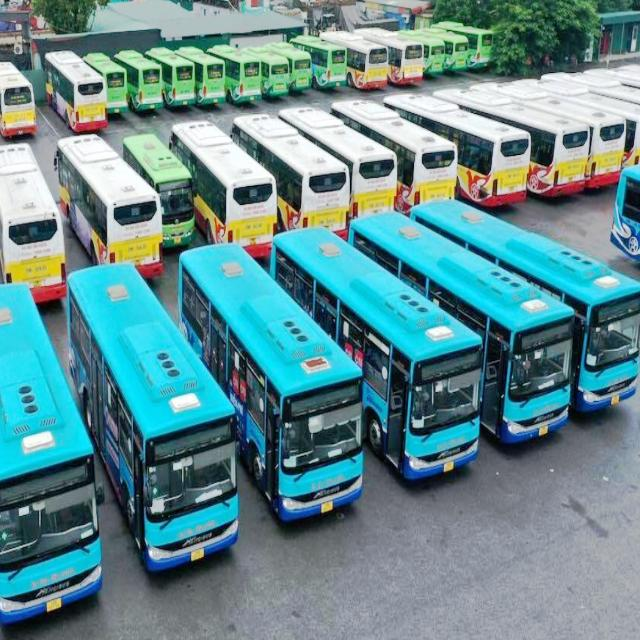Car: (246, 264, 353, 530), (129, 313, 237, 572), (0, 294, 82, 602), (390, 255, 468, 493), (485, 242, 560, 438), (576, 236, 640, 410), (102, 159, 160, 266), (10, 164, 62, 274), (159, 144, 202, 243), (300, 136, 344, 232), (409, 116, 460, 197), (224, 141, 266, 239), (352, 128, 401, 206), (488, 121, 528, 194), (72, 45, 102, 124), (555, 112, 584, 184), (315, 32, 349, 92), (171, 47, 194, 99), (109, 49, 126, 110), (266, 41, 285, 95), (142, 50, 156, 112), (368, 32, 383, 89)
